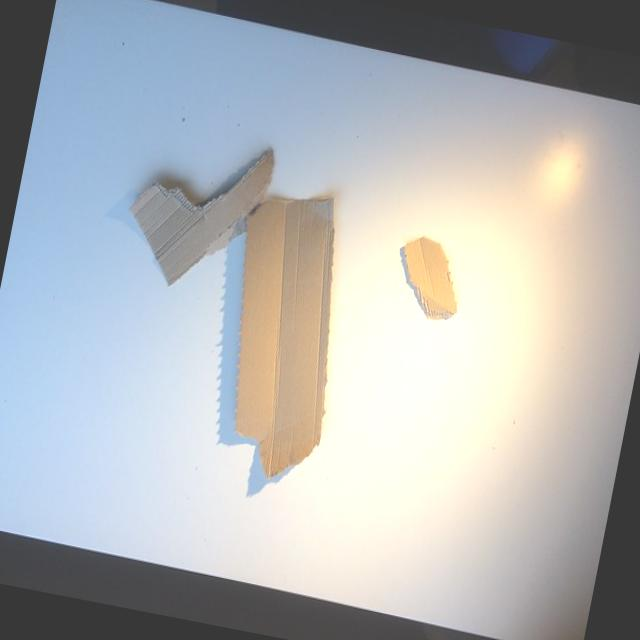Recycle: (94, 130, 370, 500), (388, 230, 474, 334)
